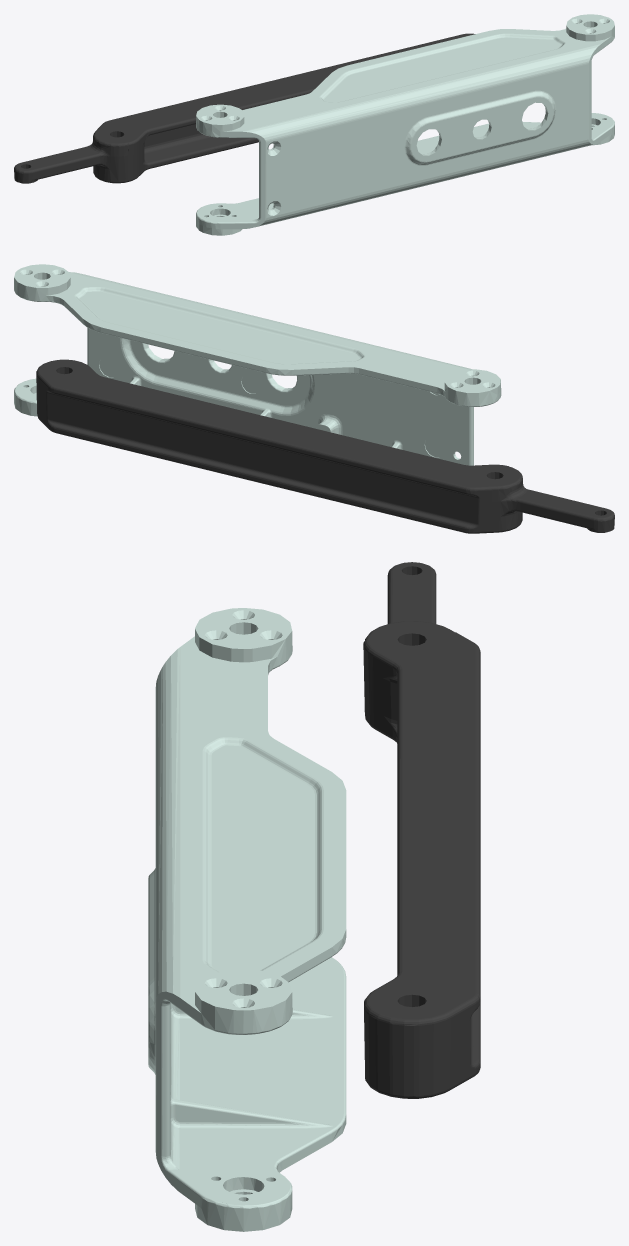
3 renders of one model, top to bottom at view 1: azimuth 30°, elevation 25°; view 2: azimuth 150°, elevation 25°; view 3: azimuth 270°, elevation 25°, orthographic. The views are drawn at different scales.
Visible parts, largest first — view 1: J3_Link.001, J3_Link; view 2: J3_Link.001, J3_Link; view 3: J3_Link.001, J3_Link.
Part boxes in pixels (box(x1,y1,x2,y2)): J3_Link.001: box(196, 14, 614, 235); J3_Link: box(14, 33, 475, 183); J3_Link.001: box(14, 264, 501, 465); J3_Link: box(36, 359, 614, 533); J3_Link.001: box(148, 608, 346, 1231); J3_Link: box(363, 562, 480, 1098).
Bounding box in the file's own units: 0.2619 × 0.068 × 0.05.
